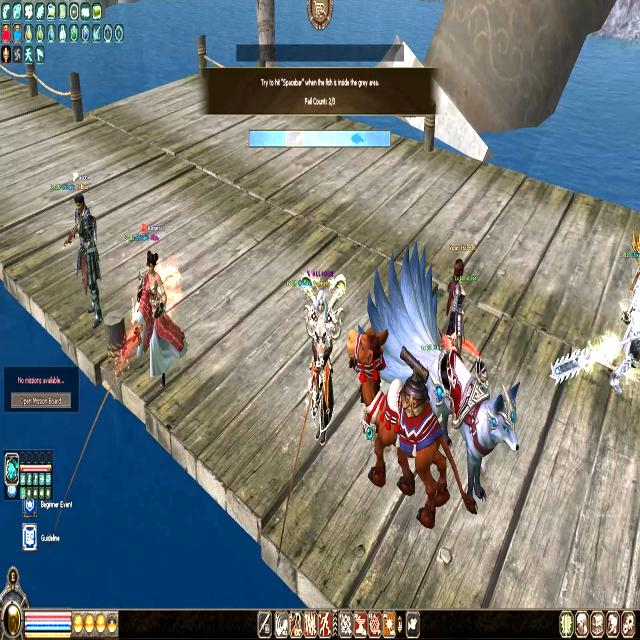fishes: (351, 131, 363, 145)
